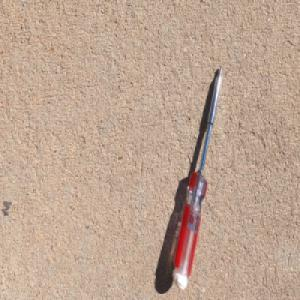Screwdriver: (171, 63, 224, 292)
